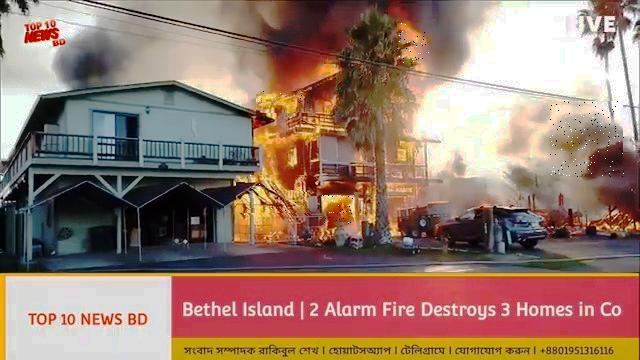fire: (237, 176, 312, 216), (256, 92, 312, 116), (398, 24, 430, 64), (322, 196, 354, 225)
smoke: (551, 101, 626, 177)
